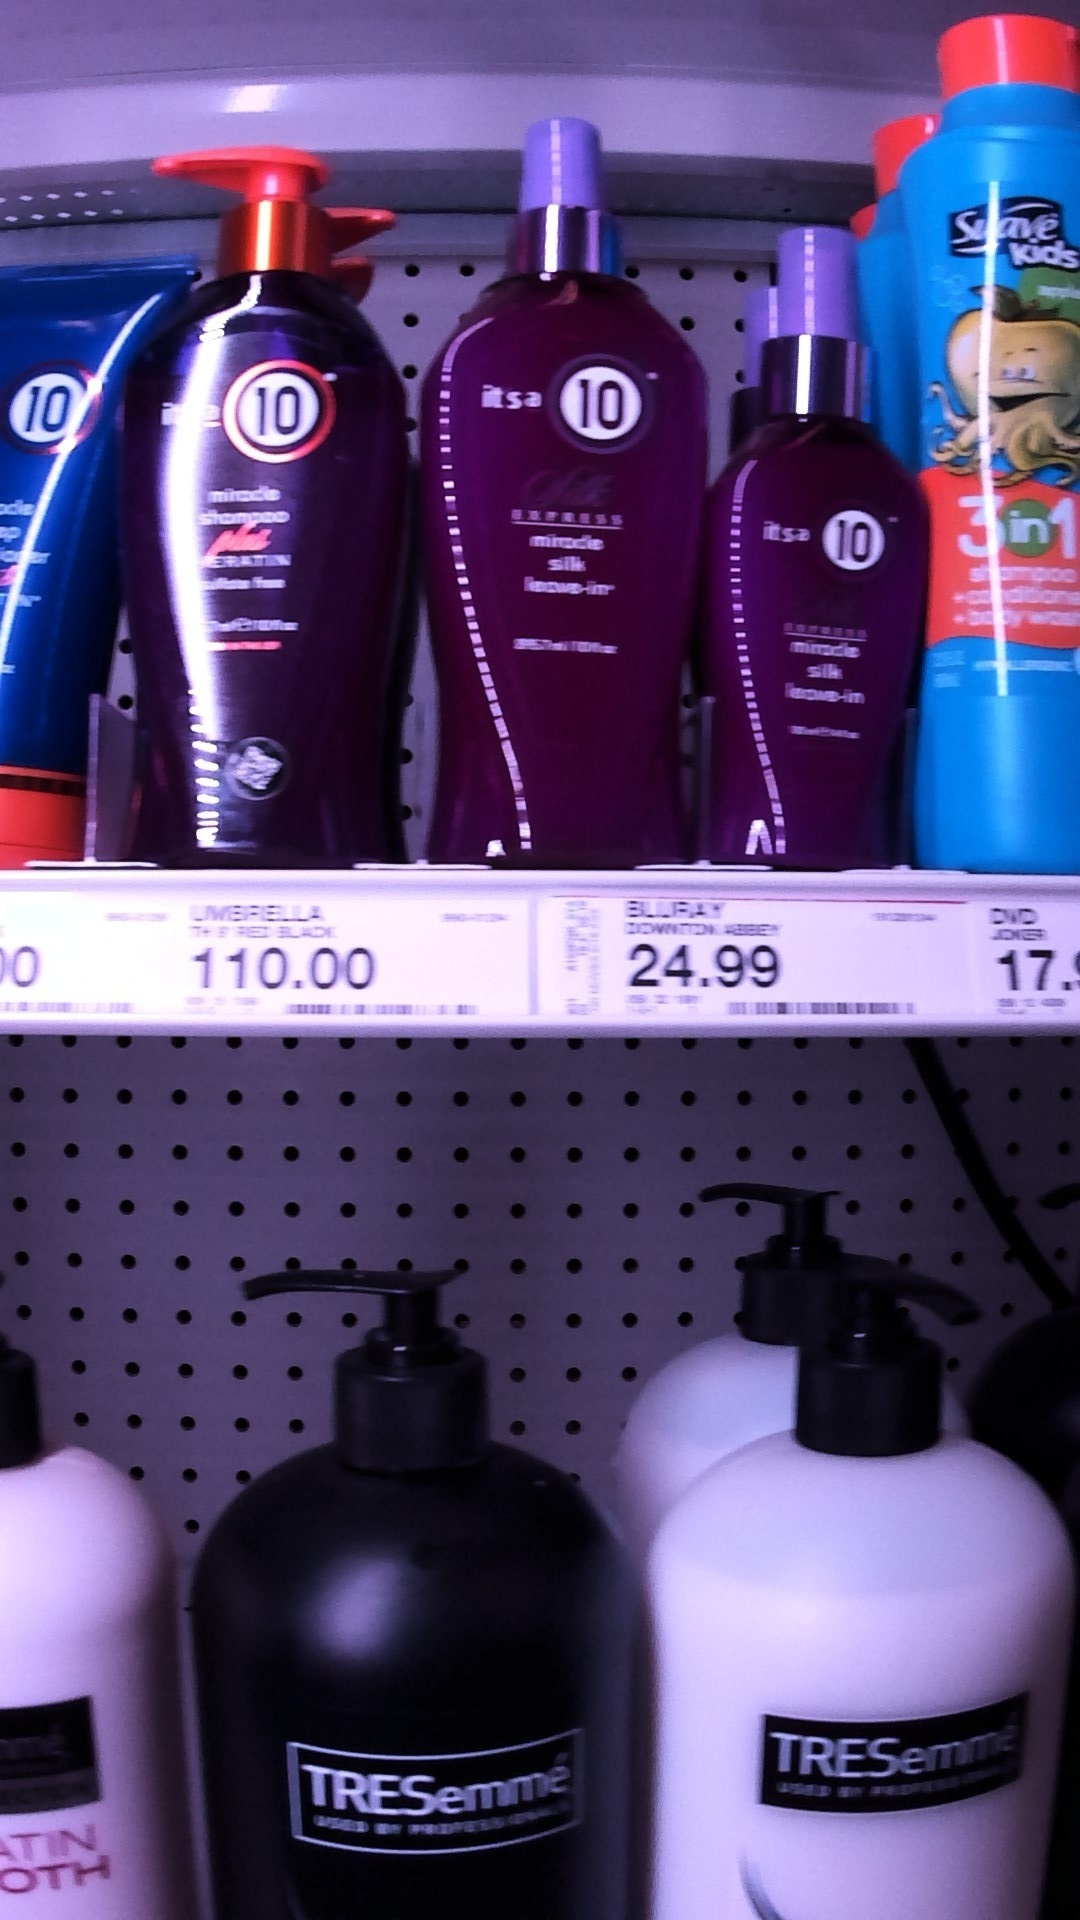ptag: (551, 877, 922, 1035), (179, 884, 529, 1029)
